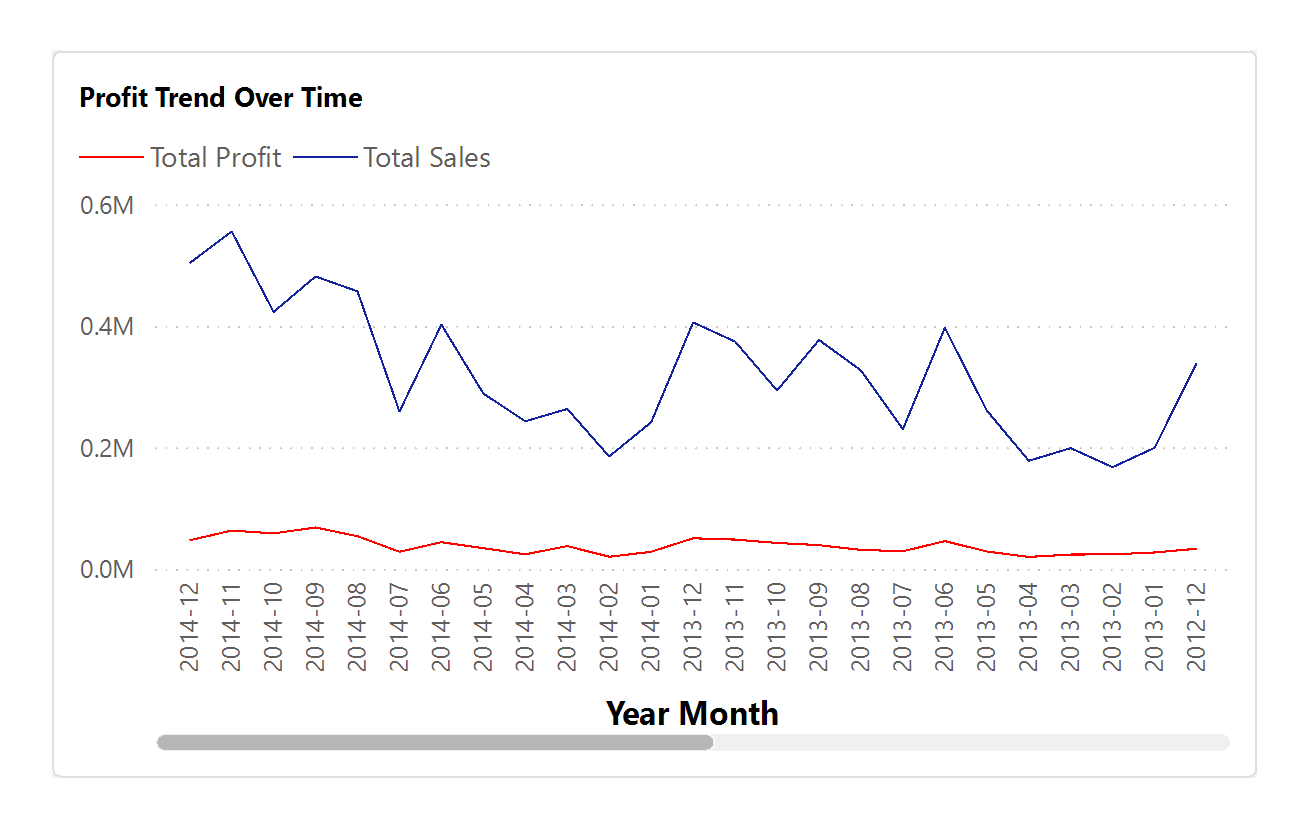

The dashboard page shown, as its layout file describes it:
{"tool":"powerbi","page":{"name":"Trend Tool Tip","canvas":[580,350],"ordinal":1},"visuals":[{"type":"lineChart","title":"Profit Trend Over Time","fields":{"Category":["DateTable.Year Month"],"Y":["Superstore.Total Profit","KPI.Total Sales"]},"box":[0,0,580,350],"z":1000}]}

Visuals, with their boxes on the page's 580x350 design canvas (x1, y1, x2, y2). These are canvas units, not pixel positions in the 1308x828 screenshot, which may show the page scaled, cropped or inside an application window:
"Profit Trend Over Time" lineChart: 0,0,580,350
